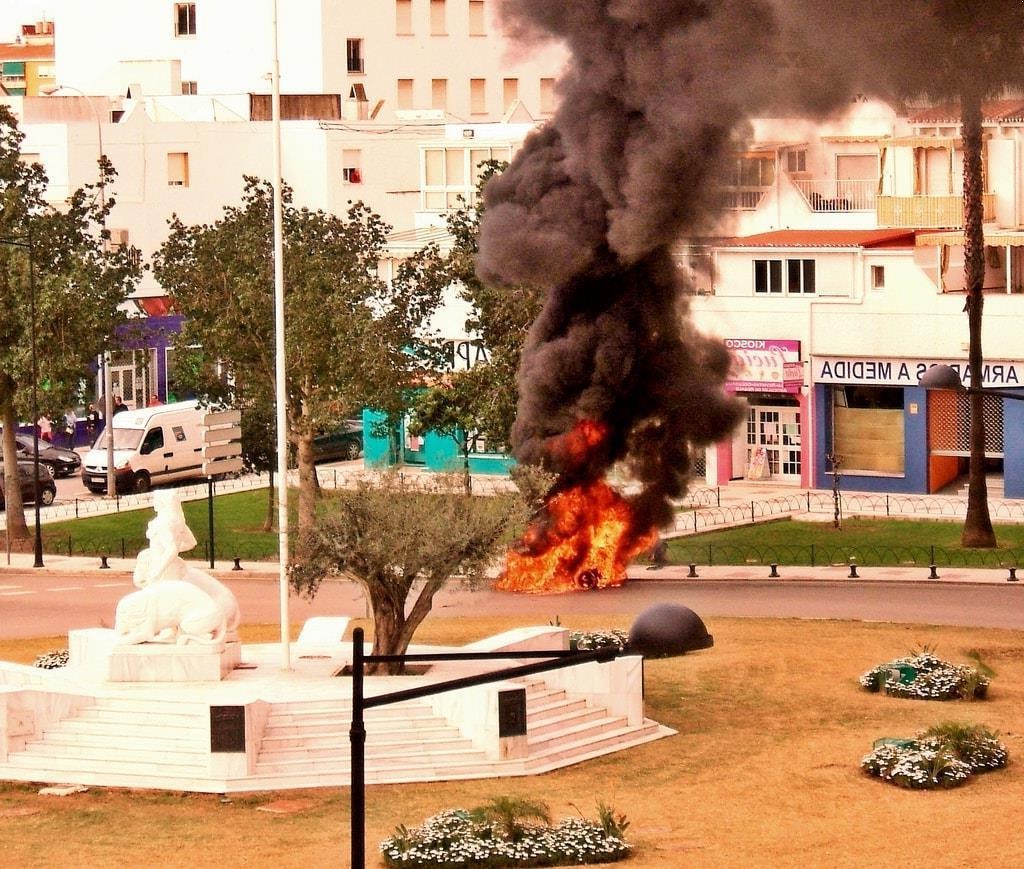Fire: (492, 481, 684, 592), (533, 406, 617, 463)
